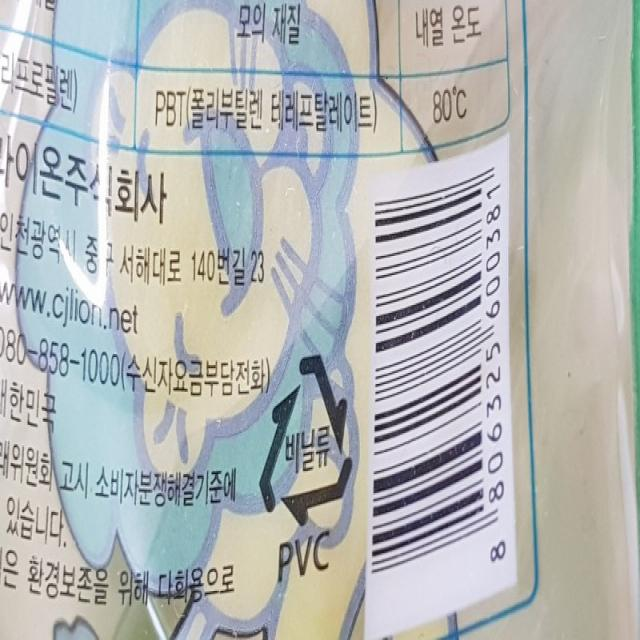Vinyl: (258, 350, 355, 534)
